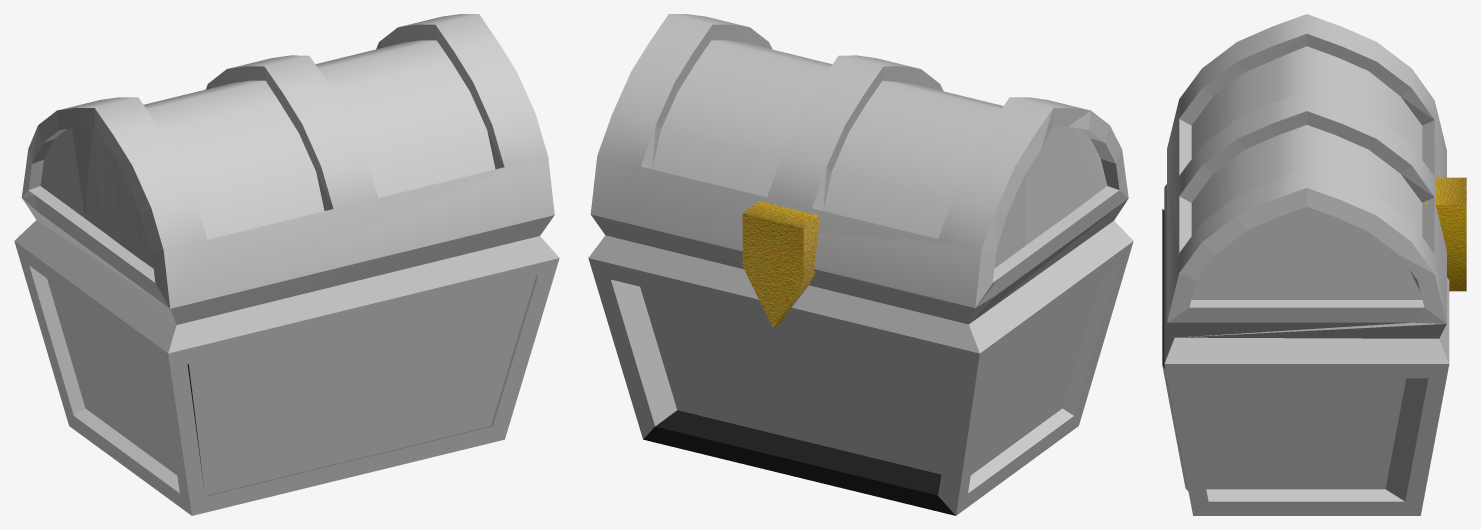
File: cofrecerrado.fbx
3 views of the same model, side by side, from view 1: azimuth 30°, elevation 25°; view 2: azimuth 150°, elevation 25°; view 3: azimuth 270°, elevation 25° (orthographic). The views are drawn at different scales.
Visible parts, largest first — view 1: cofre, ff; view 2: cofre, ff; view 3: cofre, ff.
Boxes of the visible parts, bbox=[...] form: cofre: bbox=[21, 14, 554, 324]; ff: bbox=[14, 220, 559, 515]; cofre: bbox=[590, 14, 1128, 328]; ff: bbox=[588, 221, 1133, 515]; cofre: bbox=[1167, 14, 1466, 338]; ff: bbox=[1162, 184, 1449, 515].
Bounding box in the file's own units: 1.39 × 1.26 × 1.01.
